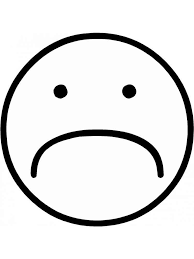triste: (3, 27, 194, 224), (34, 79, 174, 188)
